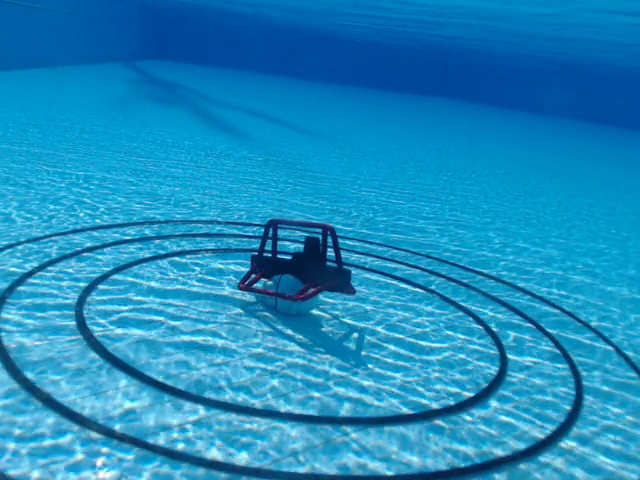submarine: (236, 217, 358, 304)
